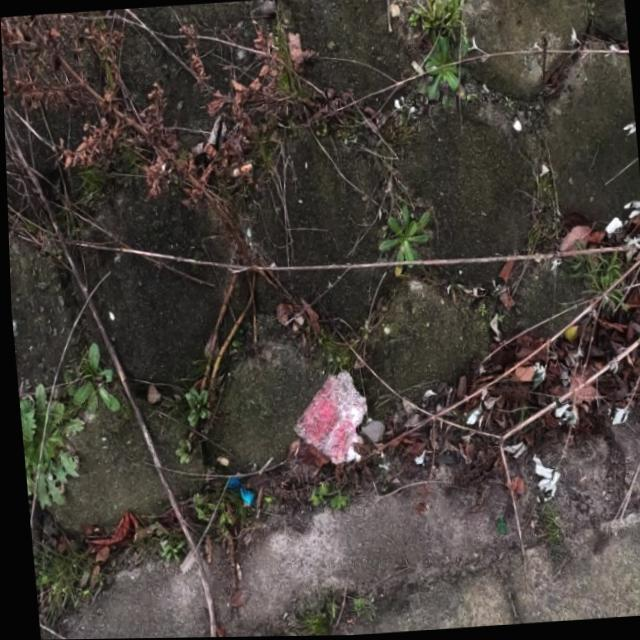Paper: (525, 452, 560, 505)
Plastic: (221, 469, 256, 513)
